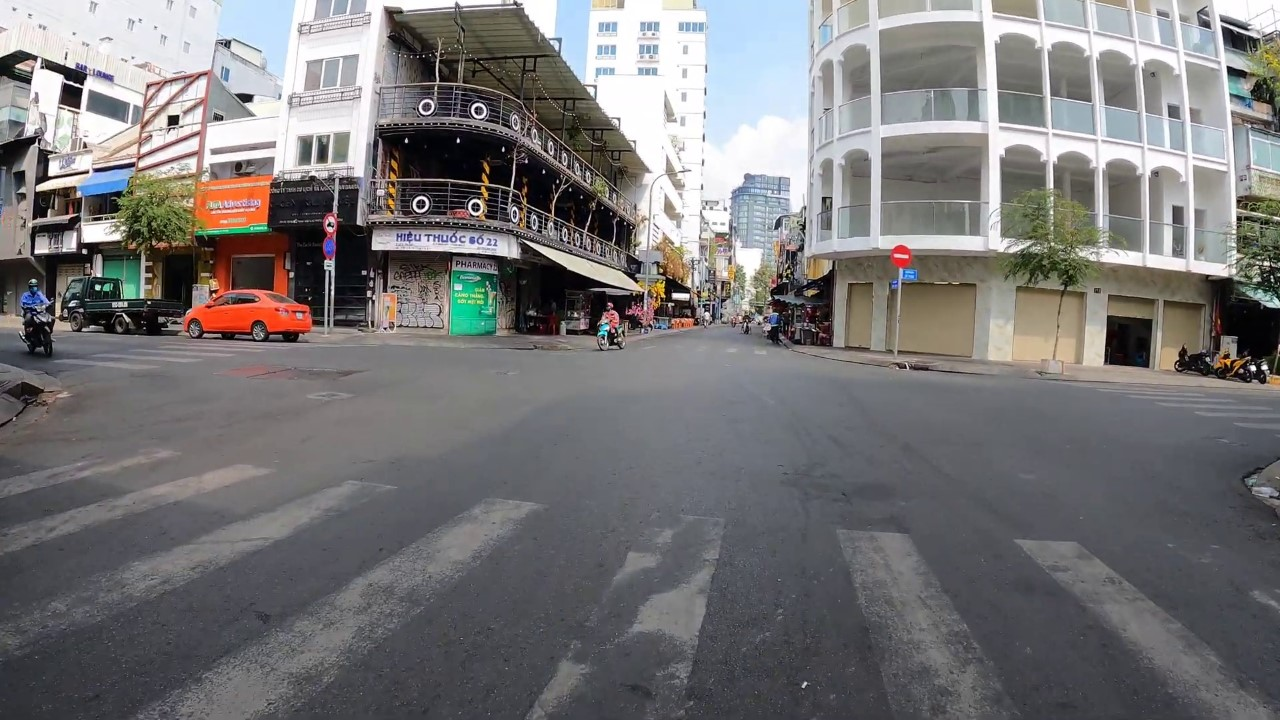cam_nguoc_chieu: (890, 244, 913, 268)
